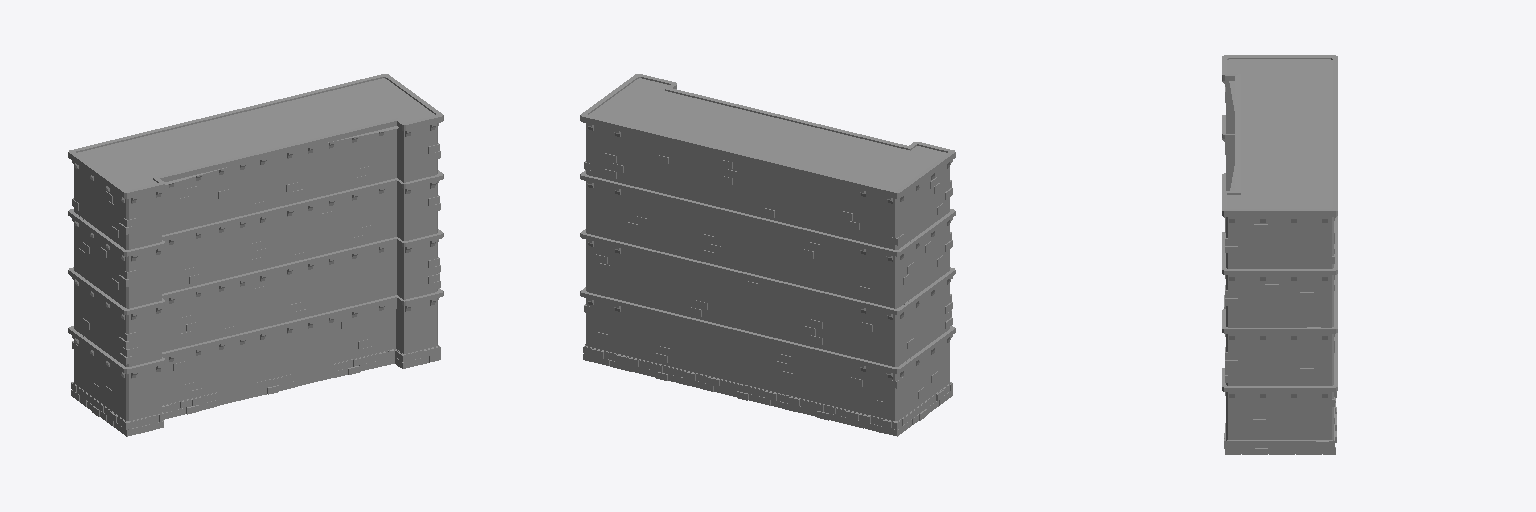
File: 4Story_Wide_2Doors_Base.obj
3 views of the same model, side by side, from view 1: azimuth 30°, elevation 25°; view 2: azimuth 150°, elevation 25°; view 3: azimuth 270°, elevation 25° (orthographic).
Parts seen in each view (by area): view 1: 4Story_Wide_2Doors_Base_Cube.176; view 2: 4Story_Wide_2Doors_Base_Cube.176; view 3: 4Story_Wide_2Doors_Base_Cube.176.
Part boxes in pixels (bbox=[...]): 4Story_Wide_2Doors_Base_Cube.176: bbox=[68, 74, 443, 436]; 4Story_Wide_2Doors_Base_Cube.176: bbox=[580, 74, 955, 436]; 4Story_Wide_2Doors_Base_Cube.176: bbox=[1222, 55, 1337, 454].
Bounding box in the file's own units: 6.83 × 5 × 2.15.